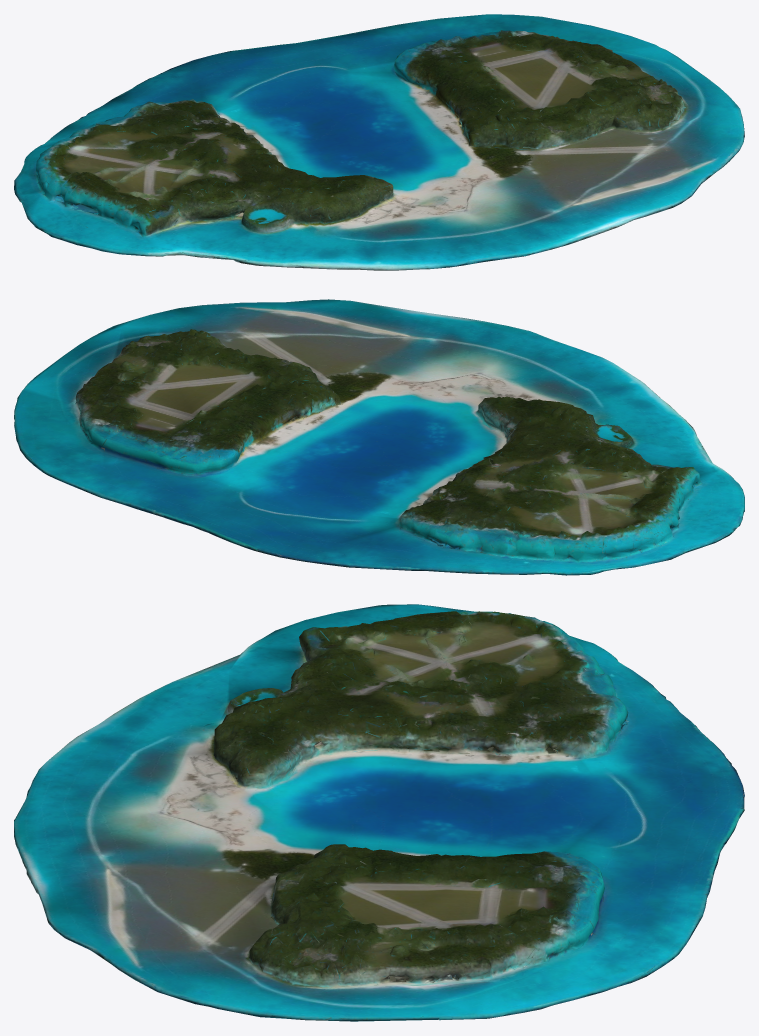
Rendered from midway-atoll.glb.
3 renders of one model, top to bottom at view 1: azimuth 30°, elevation 25°; view 2: azimuth 150°, elevation 25°; view 3: azimuth 270°, elevation 25°, orthographic. The views are drawn at different scales.
Visible parts, largest first — view 1: Mesh1.0; view 2: Mesh1.0; view 3: Mesh1.0.
Boxes of the visible parts, x1=… form: Mesh1.0: x1=14, y1=14, x2=744, y2=270; Mesh1.0: x1=14, y1=299, x2=744, y2=575; Mesh1.0: x1=14, y1=604, x2=744, y2=1021.
Size of the model in its own units: 2 by 0.0981 by 1.49.
Materials: 1 (1 with a texture image).
